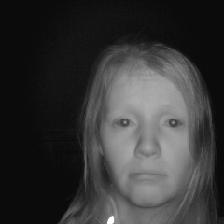normal: (77, 42, 216, 204)
